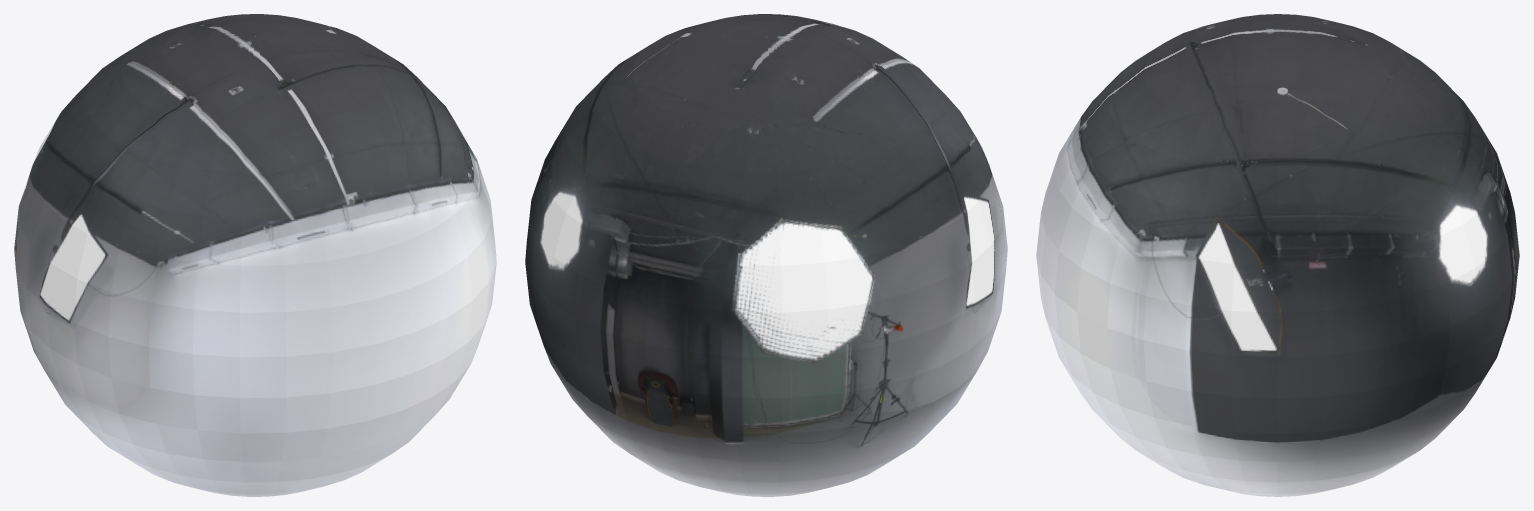
Rendered from Crypto2_insphere.gltf.
3 renders of one model, left to right at view 1: azimuth 30°, elevation 25°; view 2: azimuth 150°, elevation 25°; view 3: azimuth 270°, elevation 25°, orthographic.
Parts seen in each view (by area): view 1: Sphere; view 2: Sphere; view 3: Sphere.
Part boxes in pixels (x1,y1,x2,y2): Sphere: [14, 14, 496, 496]; Sphere: [525, 14, 1007, 496]; Sphere: [1036, 14, 1519, 496].
Bounding box in the file's own units: 28.76 × 28.76 × 28.76.
2 materials, 2 textured.
